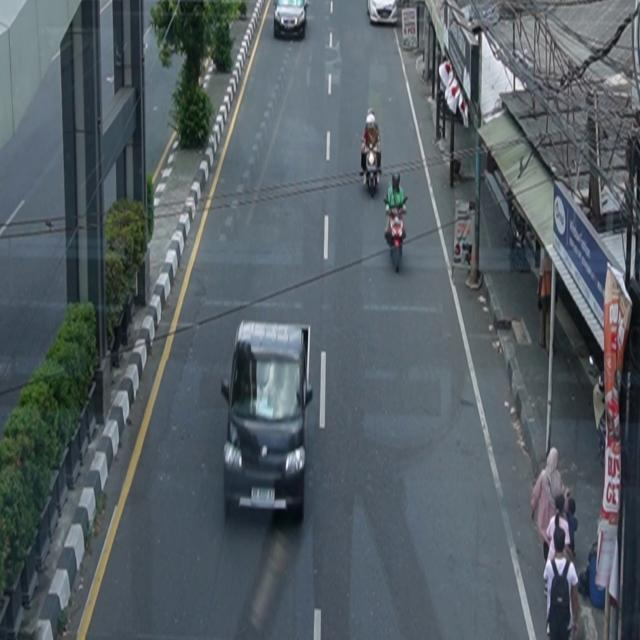car: (221, 321, 314, 520), (274, 1, 309, 40), (367, 1, 398, 26)
